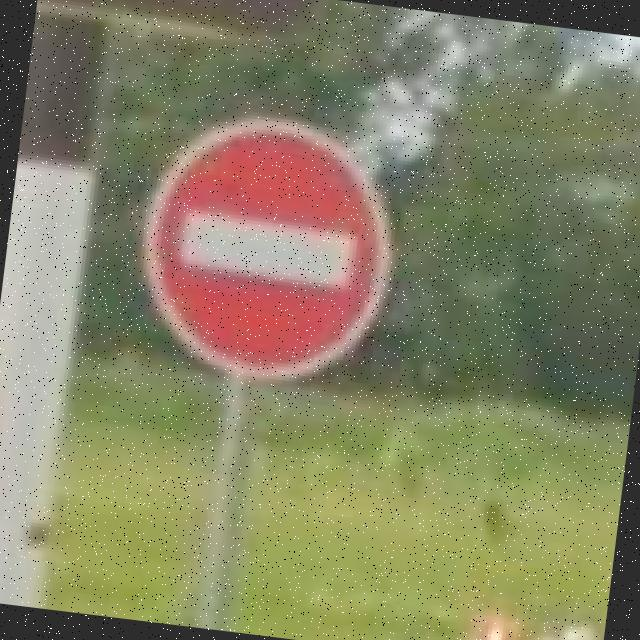Zakaz wjazdu: (128, 104, 406, 392)
